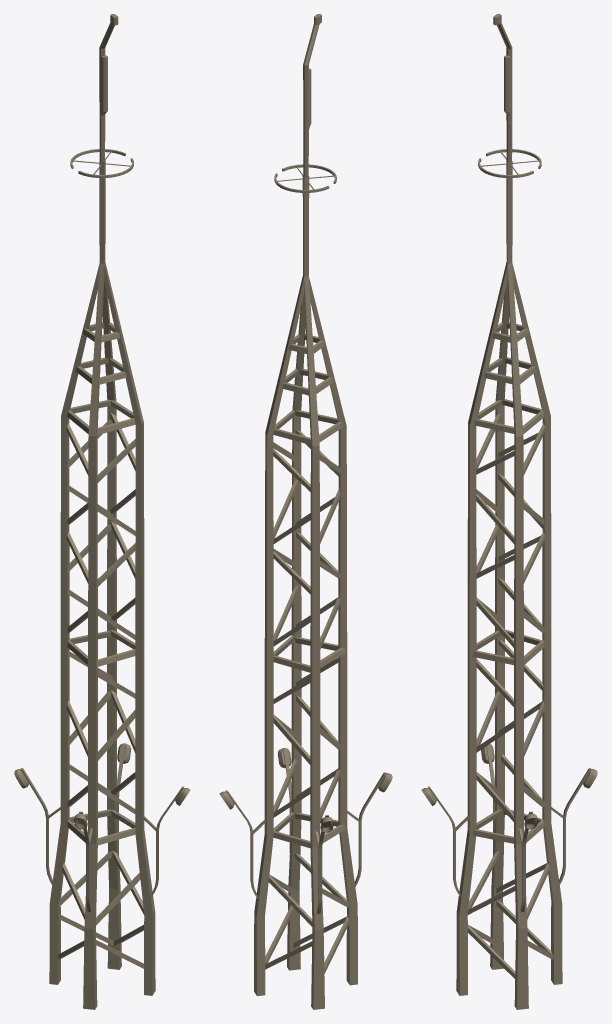
File: savHubMast.fbx
3 renders of one model, left to right at view 1: azimuth 30°, elevation 25°; view 2: azimuth 150°, elevation 25°; view 3: azimuth 330°, elevation 25°, orthographic.
Visible parts, largest first — view 1: savHubMast_LOD0; view 2: savHubMast_LOD0; view 3: savHubMast_LOD0.
Part boxes in pixels (x1=…): savHubMast_LOD0: x1=14, y1=14, x2=190, y2=1009; savHubMast_LOD0: x1=219, y1=14, x2=392, y2=1009; savHubMast_LOD0: x1=421, y1=14, x2=597, y2=1009.
Size of what is drawn, in the model's own units: 318 by 2568 by 318.
